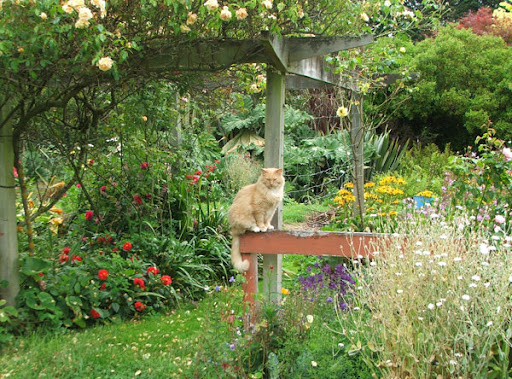cat: (227, 168, 285, 272)
